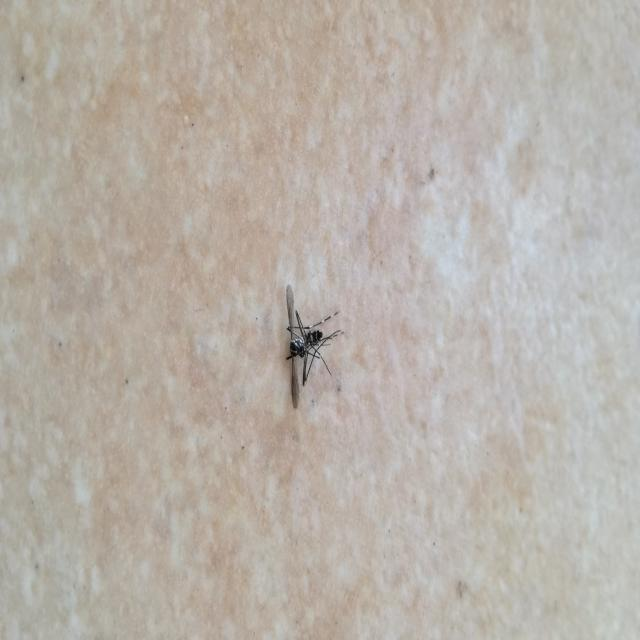albopictus: (276, 277, 346, 397)
